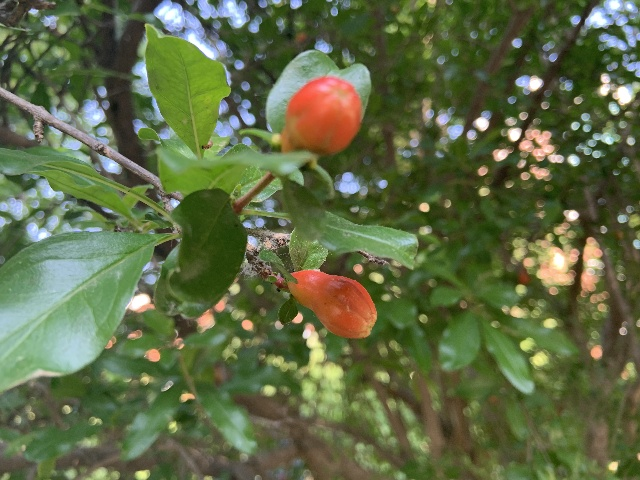bud: (280, 76, 363, 156), (286, 269, 376, 340)
